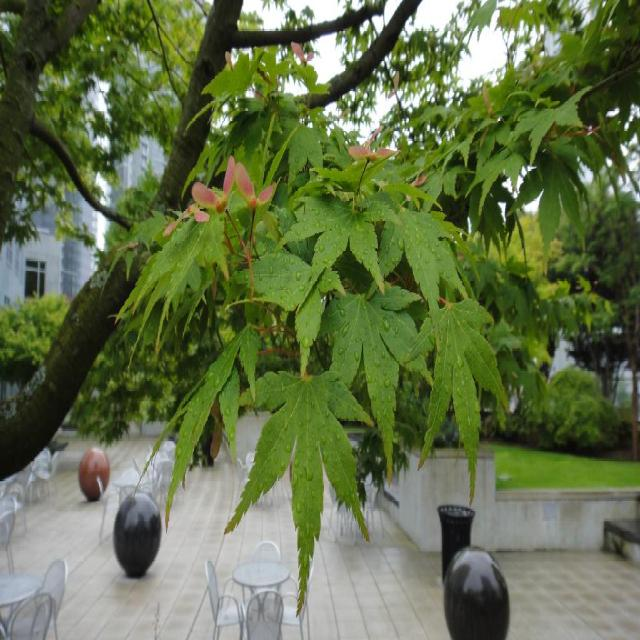Ball: (445, 546, 509, 639), (112, 496, 161, 580), (80, 448, 108, 503)
